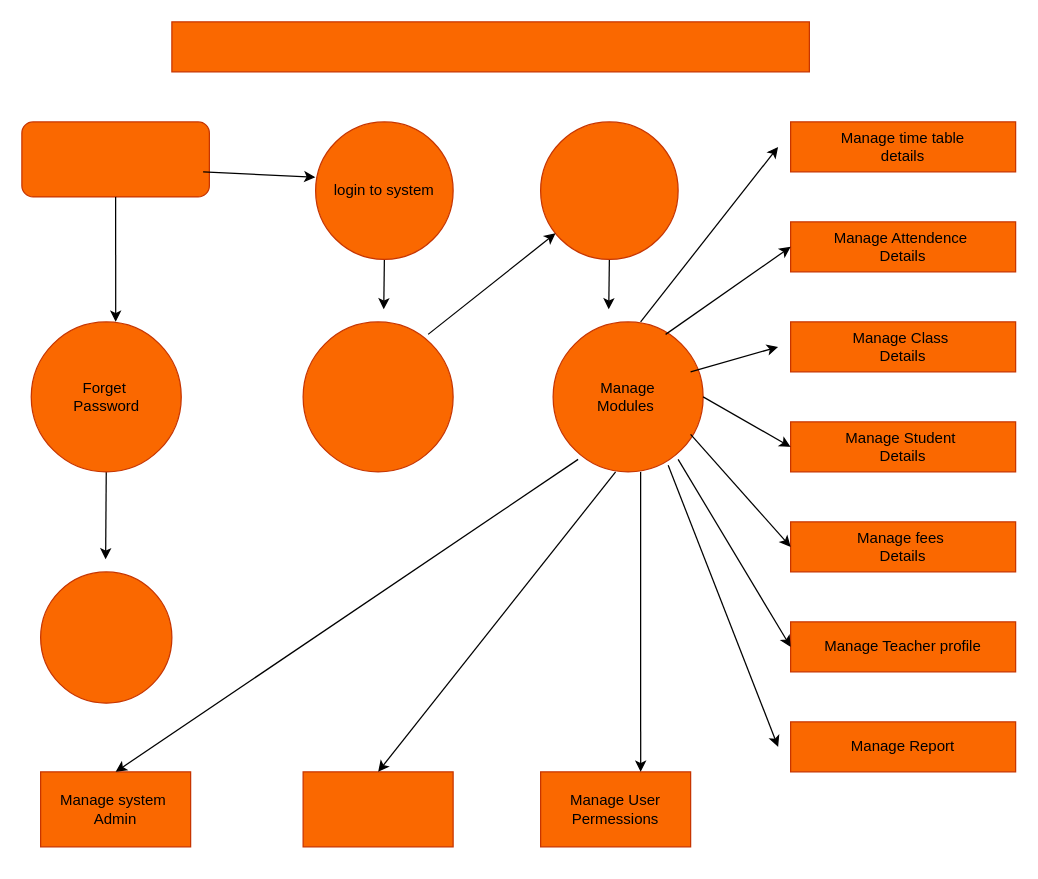
Image size: 1038x879. Some labels were removed from this diagram. Here are the shapes that lost their labels. From the top down, the centre of each, then its label:
(490,46): student Information system
(115,159): admin
(608,190): Clink Rolls Of Access
(377,396): Check Candiates
(105,637): Send Email in User
(377,809): Manage Rules of User
